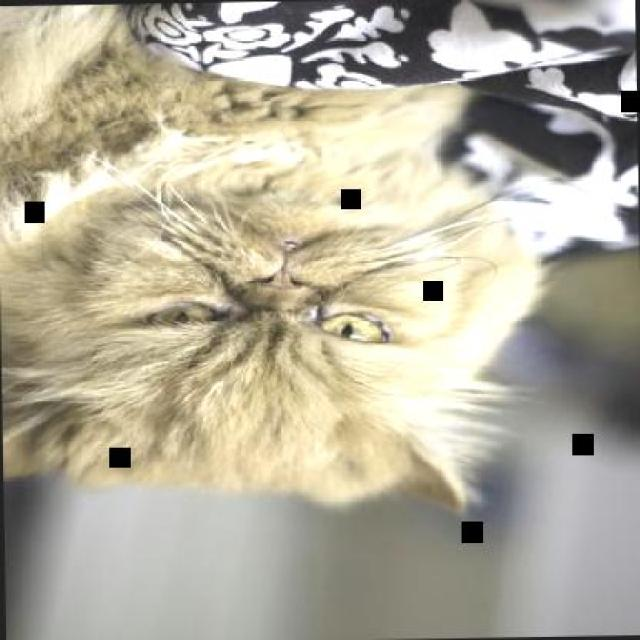cat: (0, 0, 540, 522)
